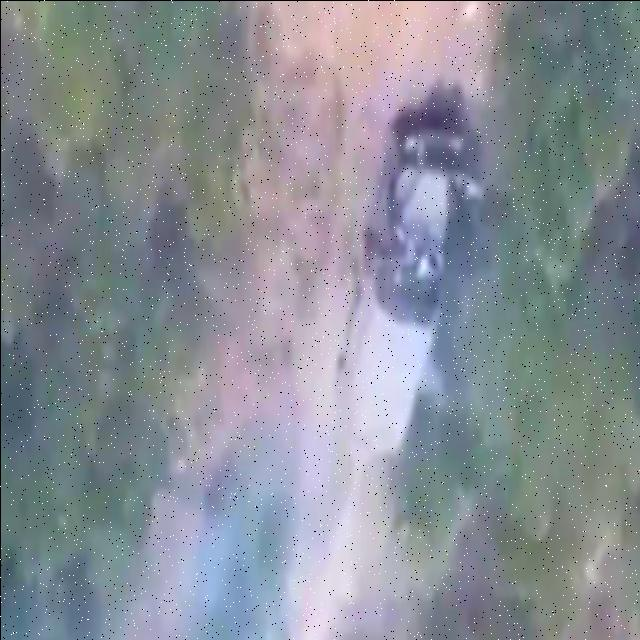TRUCK: (332, 112, 477, 454)
